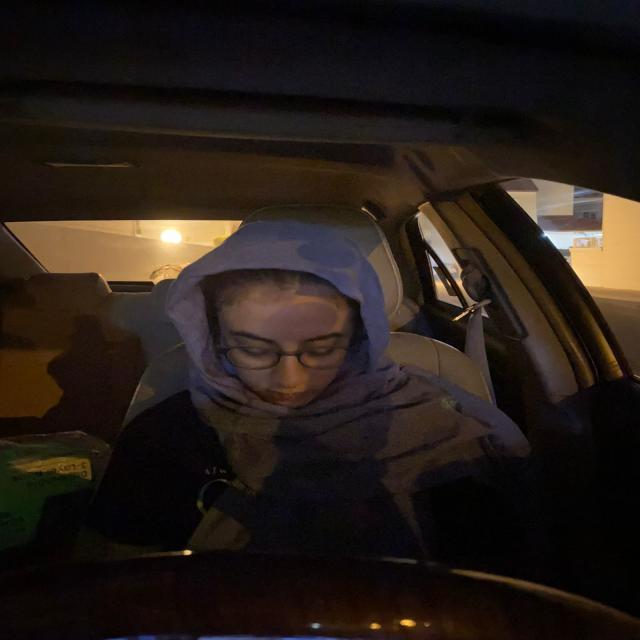drowsy: (195, 236, 373, 417)
